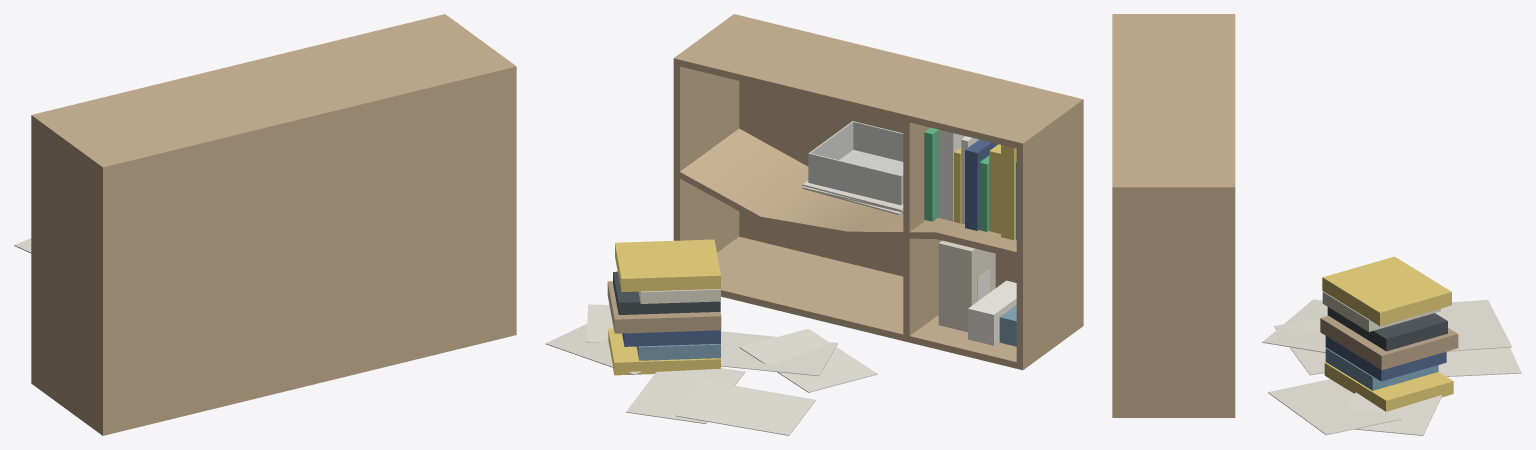
The model's file is open_shelf_broken.fbx.
3 views of the same model, side by side, from view 1: azimuth 30°, elevation 25°; view 2: azimuth 150°, elevation 25°; view 3: azimuth 270°, elevation 25° (orthographic). The views are drawn at different scales.
Visible parts, largest first — view 1: open_shelf_broken; view 2: open_shelf_broken, open_shelf_broken_debris; view 3: open_shelf_broken, open_shelf_broken_debris.
Part boxes in pixels (x1,y1,x2,y2): open_shelf_broken: (31, 14, 516, 435); open_shelf_broken: (673, 14, 1083, 370); open_shelf_broken_debris: (545, 239, 877, 435); open_shelf_broken: (1112, 14, 1235, 417); open_shelf_broken_debris: (1262, 256, 1521, 435).
Size of the model in its own units: 112 by 62.63 by 99.74.
